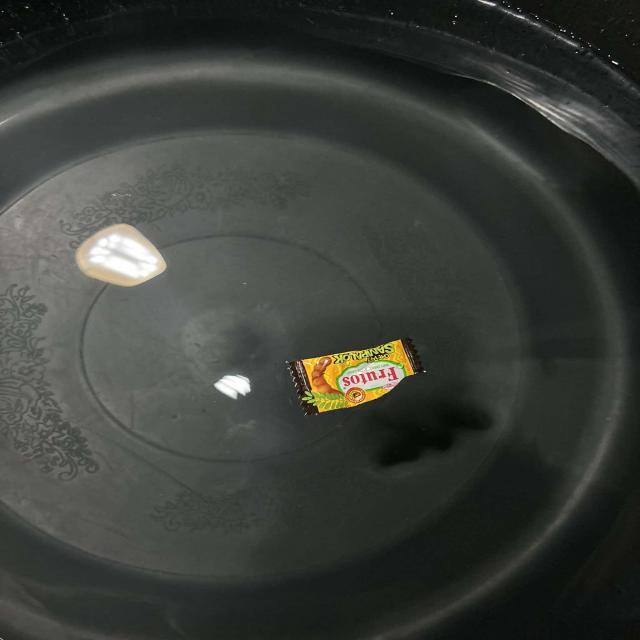Plastic Wrapper: (280, 326, 436, 426)
